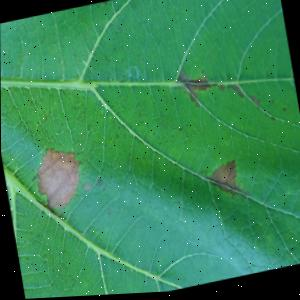Folha: (0, 0, 300, 300)
Fungo: (173, 54, 259, 124), (29, 141, 87, 219), (201, 158, 248, 208), (93, 177, 105, 193), (81, 181, 90, 193)
